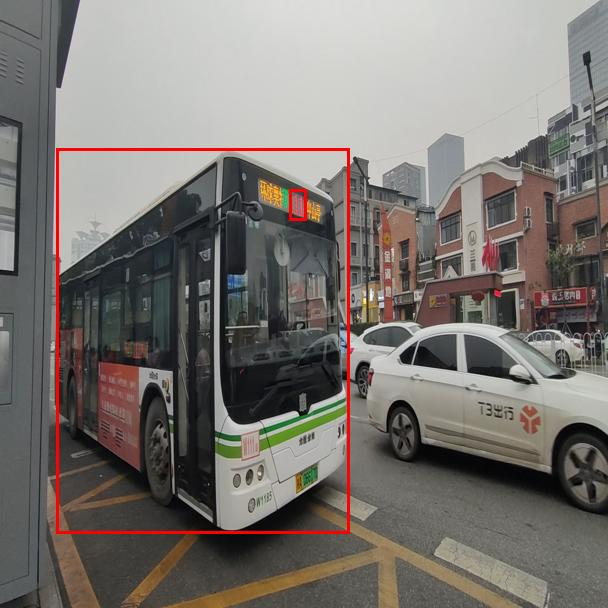bus: (56, 148, 349, 533)
screen: (289, 189, 306, 220)
